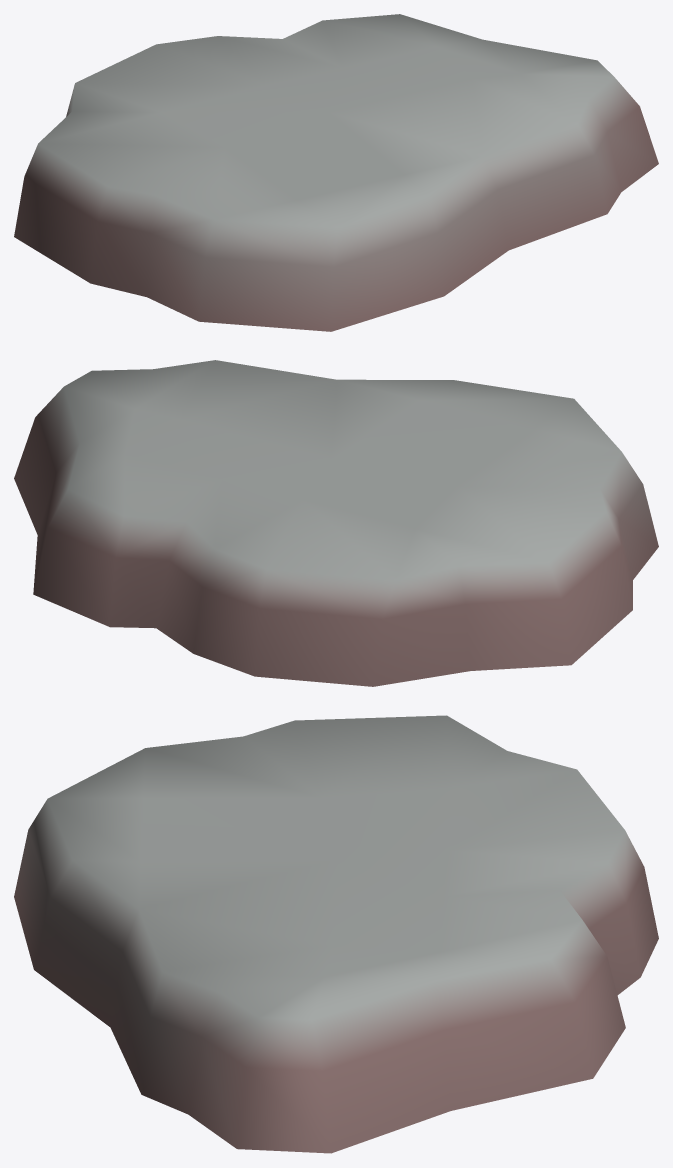
3 renders of one model, top to bottom at view 1: azimuth 30°, elevation 25°; view 2: azimuth 150°, elevation 25°; view 3: azimuth 270°, elevation 25°, orthographic. The views are drawn at different scales.
Parts seen in each view (by area): view 1: G:\FFXIV-MapTools\exports\u5f1\bg\ex4\04_uvs_u5\fld\u5f1\bgp (×2); view 2: G:\FFXIV-MapTools\exports\u5f1\bg\ex4\04_uvs_u5\fld\u5f1\bgp (×2); view 3: G:\FFXIV-MapTools\exports\u5f1\bg\ex4\04_uvs_u5\fld\u5f1\bgp (×2).
Boxes of the visible parts, bbox=[...] form: G:\FFXIV-MapTools\exports\u5f1\bg\ex4\04_uvs_u5\fld\u5f1\bgp (×2): bbox=[14, 14, 658, 331]; G:\FFXIV-MapTools\exports\u5f1\bg\ex4\04_uvs_u5\fld\u5f1\bgp (×2): bbox=[14, 360, 658, 686]; G:\FFXIV-MapTools\exports\u5f1\bg\ex4\04_uvs_u5\fld\u5f1\bgp (×2): bbox=[14, 715, 658, 1153].
Size of the model in its own units: 12.79 by 2 by 10.21.
